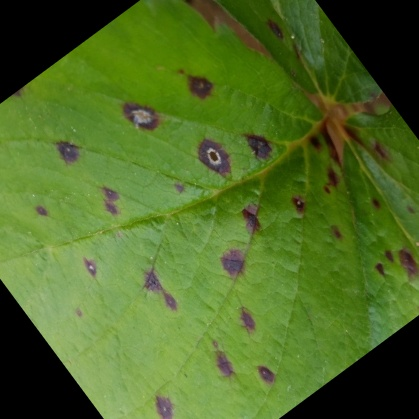Leaf_Spot: (0, 0, 356, 418), (261, 120, 418, 418), (323, 0, 418, 222)
